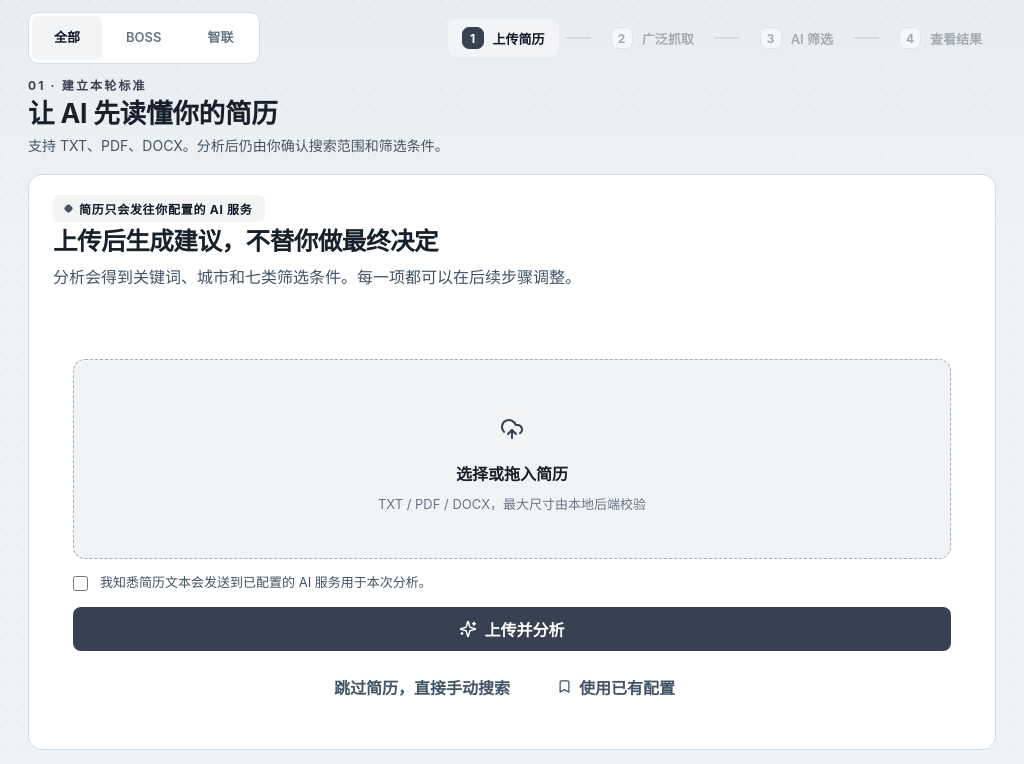
Test: DiscoveryView 常用搜索配置包 › 第一页选择配置包：直接进入第二页并完整回填，不重传简历也不开始搜索
The width and height of the screenshot is (1024, 764).
Click the button with test id "saved-package-entry". click: (616,686)
box: [544,668,688,704]
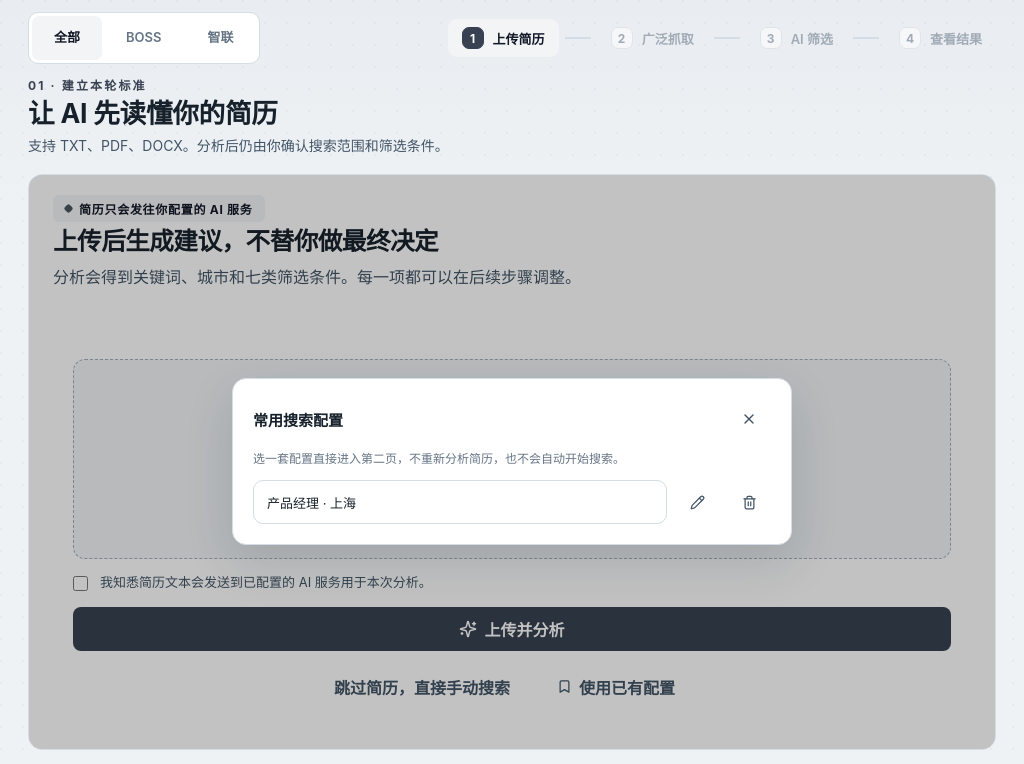
Click the button with test id "package-item". click: (312,503)
box: [253,480,667,524]
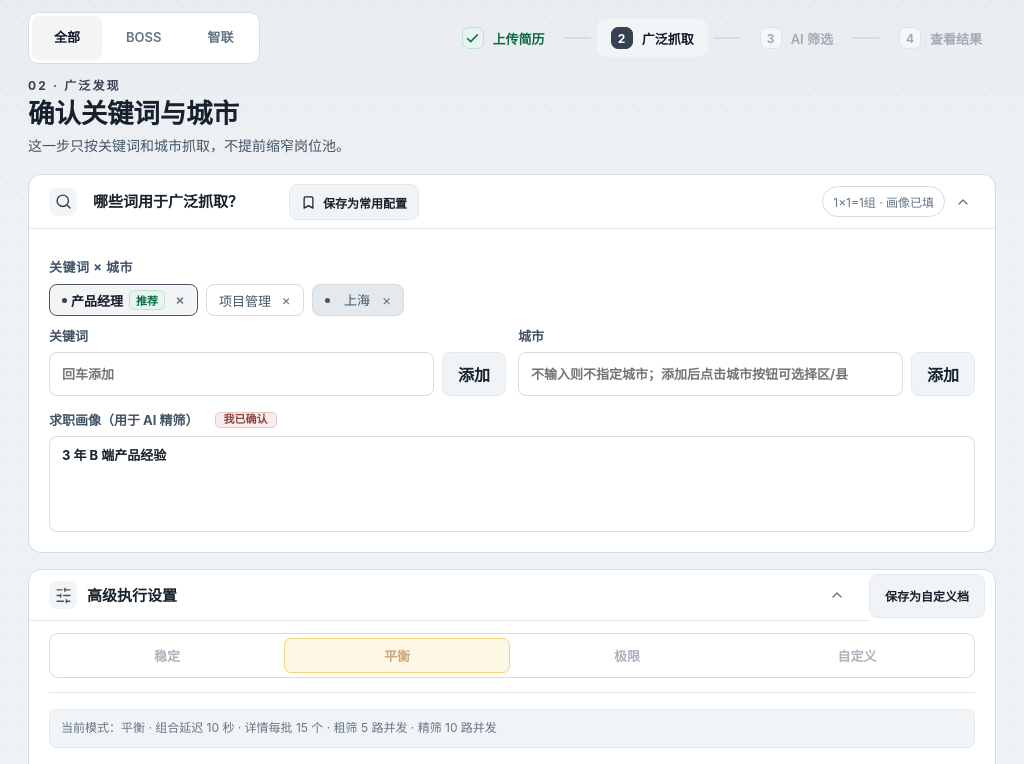
Now the text "产品经理" is shown, box [71,285,165,315]
Now the element with class "upload-layout" is gone
Now the text box holds "3 年 B 端产品经验", box [49,436,975,532]
